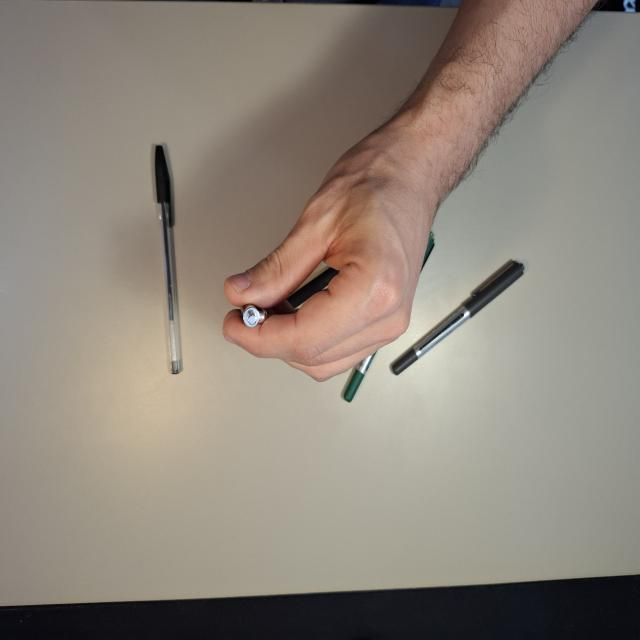glove_off: (220, 119, 461, 384)
